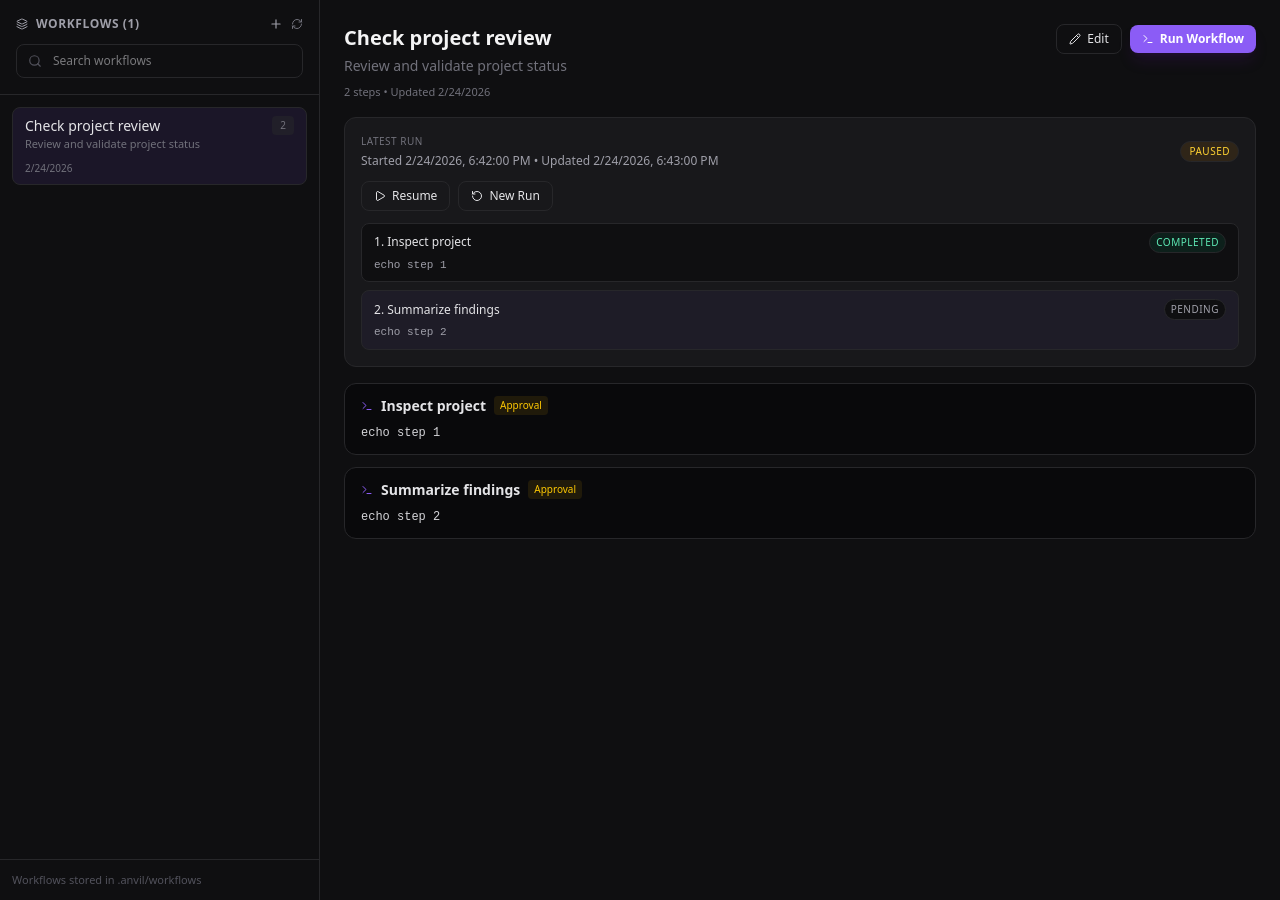
Scenario: WorkflowsPanel run lifecycle › resumes a paused run and returns to the next approval checkpoint
expect the text "Latest Run" is shown: met, box [361, 134, 423, 148]
Click the button "Resume" at coordinates (406, 196), box [361, 180, 450, 210]
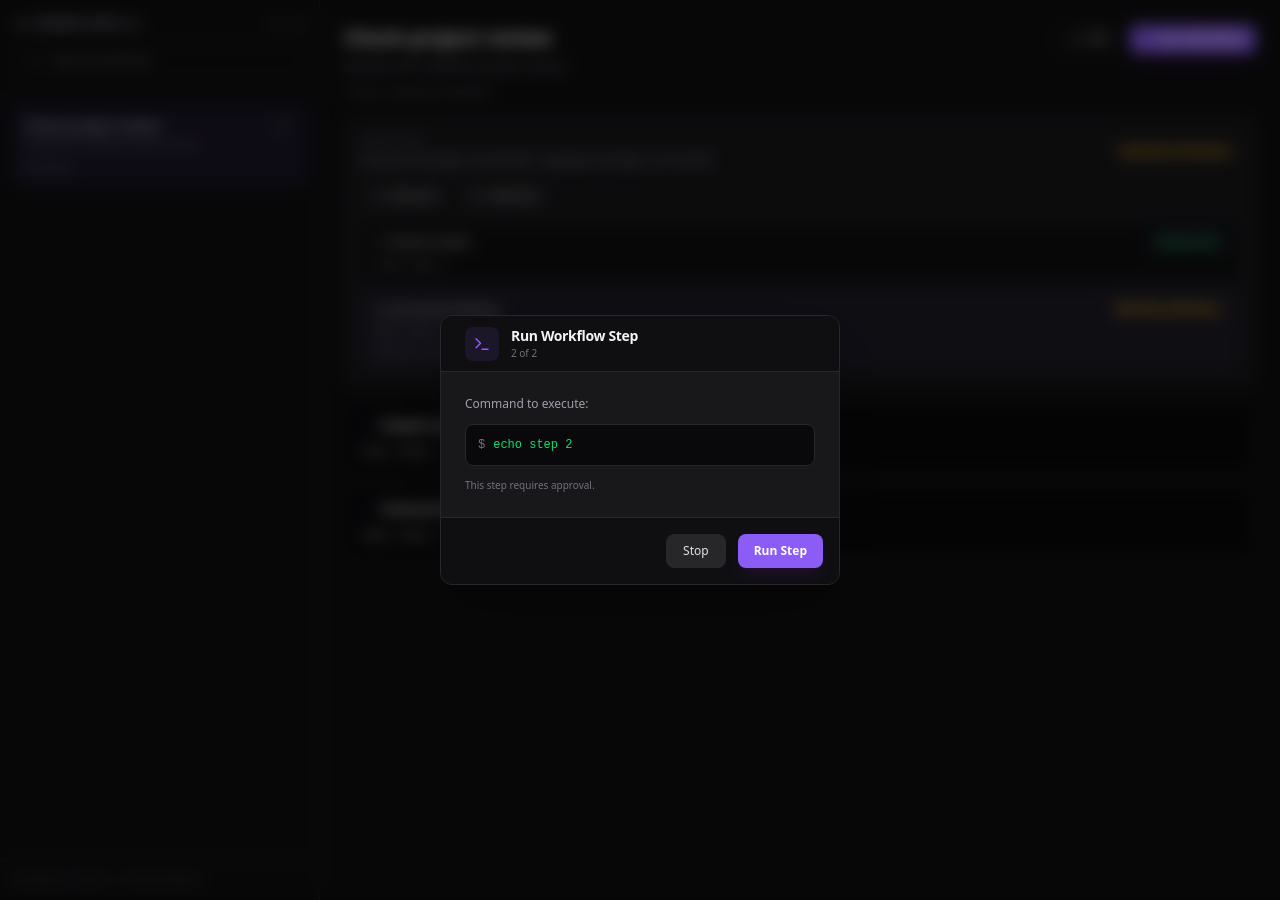
expect the text "echo step 2" is shown: met, box [374, 326, 447, 338]
expect the heading "Run Workflow Step" is shown: met, box [511, 326, 638, 346]
expect the text "2 of 2" is shown: met, box [511, 346, 537, 360]
